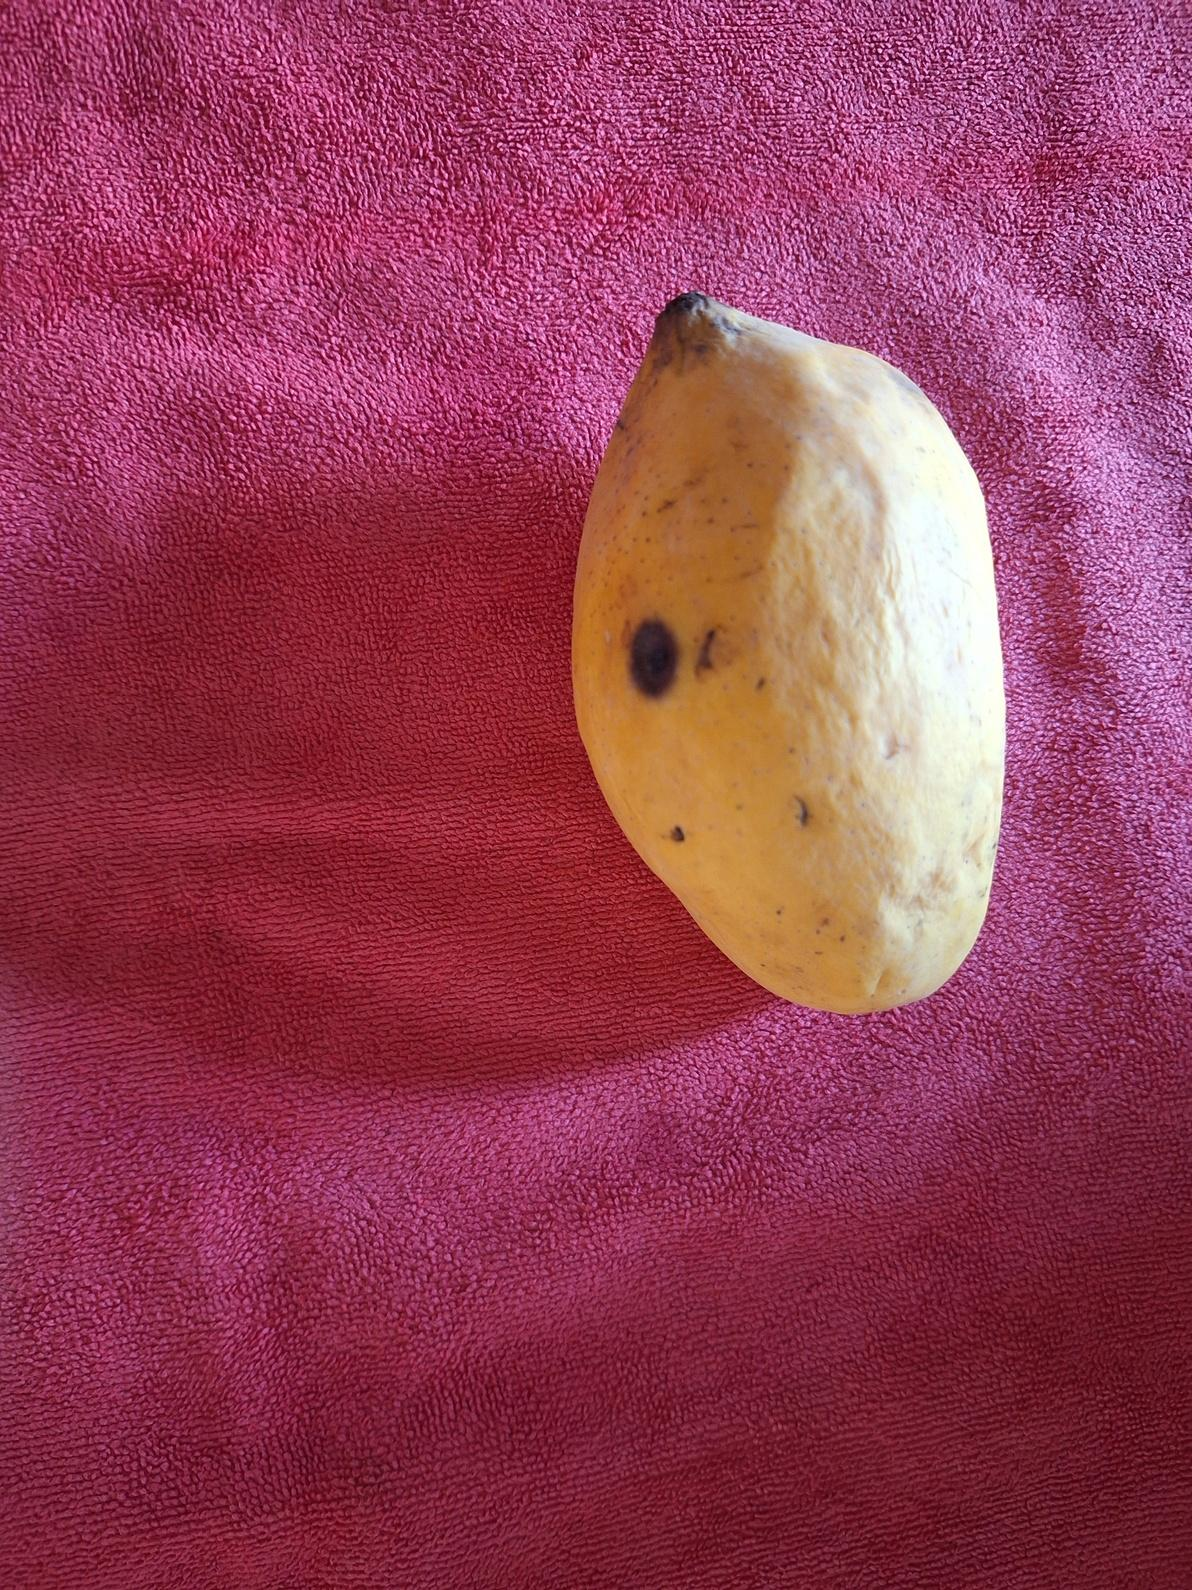mango: (568, 289, 1007, 1017)
